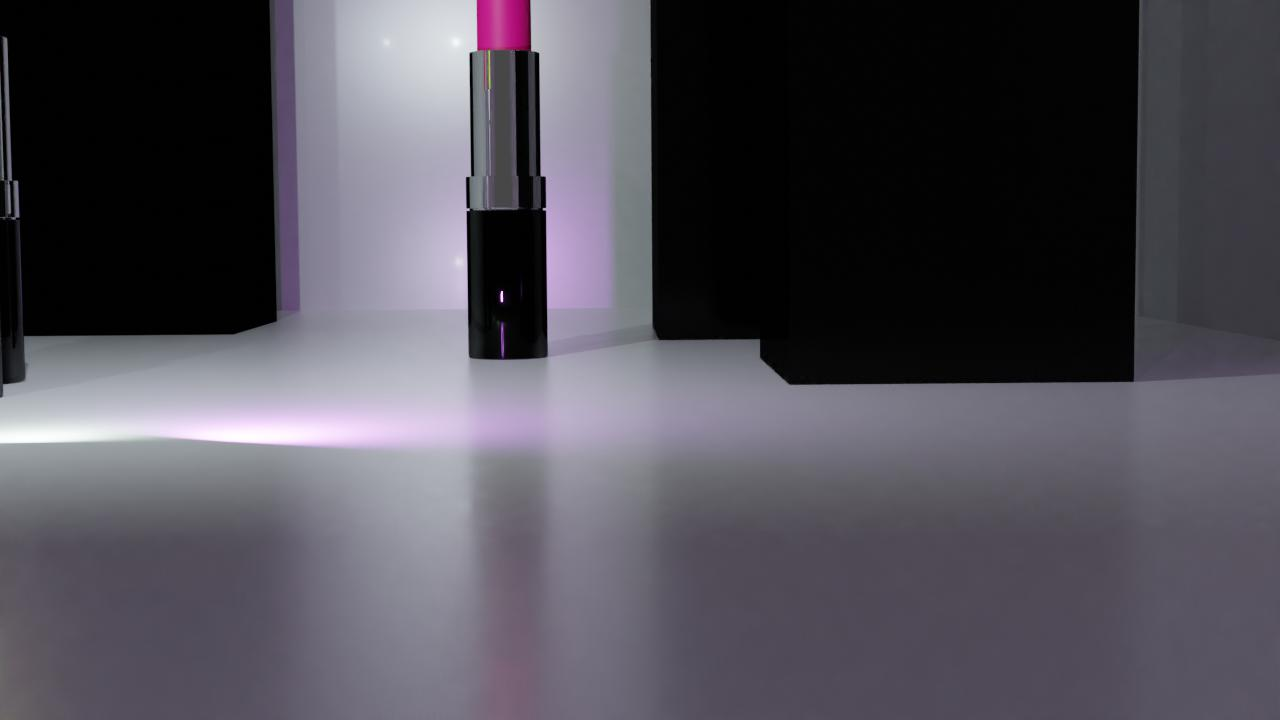CLASSIFIER_NAME: (464, 0, 548, 359), (0, 0, 6, 403)
